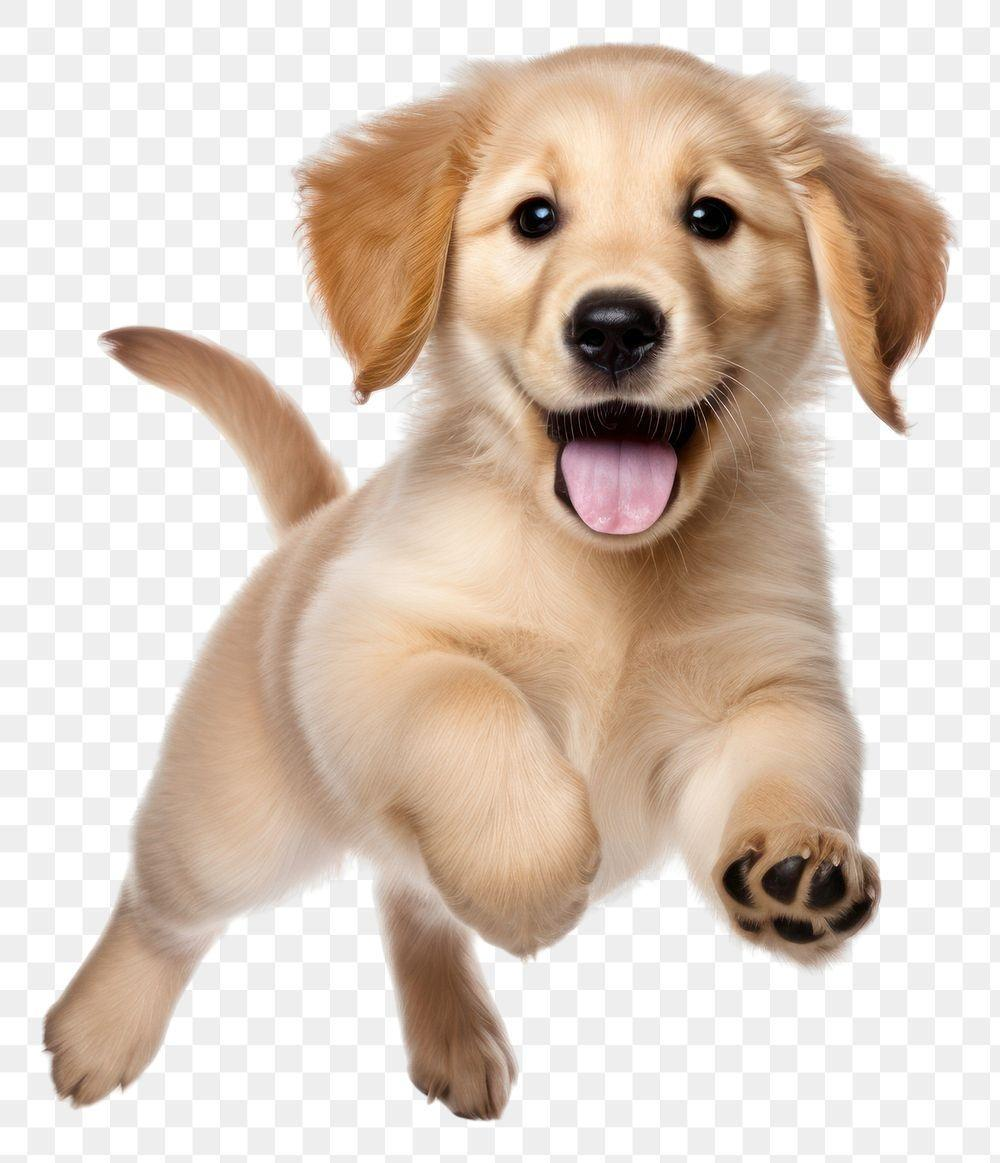puppy-dog: (41, 43, 955, 1125)
